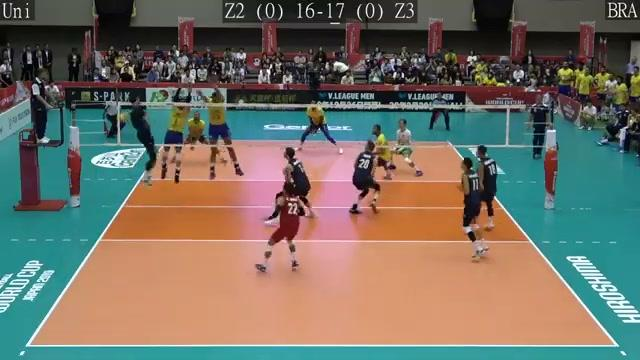ball: (117, 113, 128, 125)
